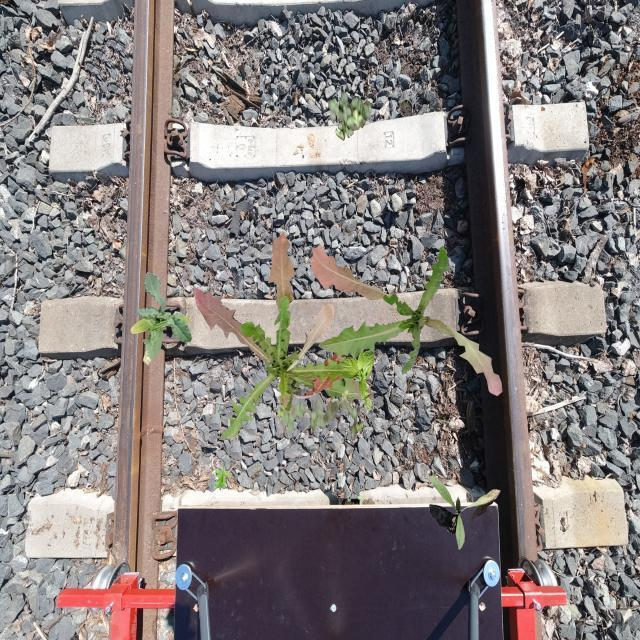Plant: (194, 232, 374, 440), (310, 245, 502, 397), (130, 272, 192, 366), (429, 475, 501, 550), (277, 388, 364, 440), (328, 91, 372, 141), (339, 348, 374, 410), (215, 466, 232, 490)
